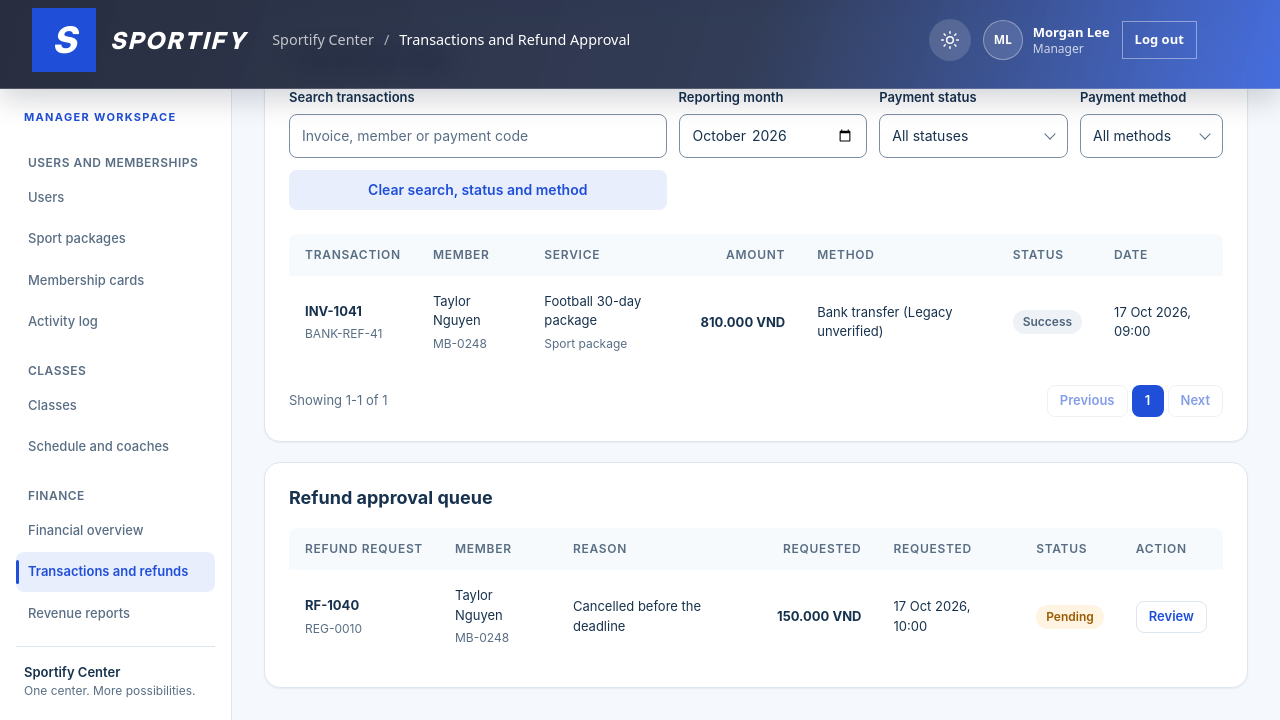
FE-13 transaction ledger and refund review › approves the requested amount with a manager note and updates the queue without a page reload
(page scrolled)
Click the button with aria-label "Review refund RF-1040": click(1171, 617) [1136,601,1207,633]
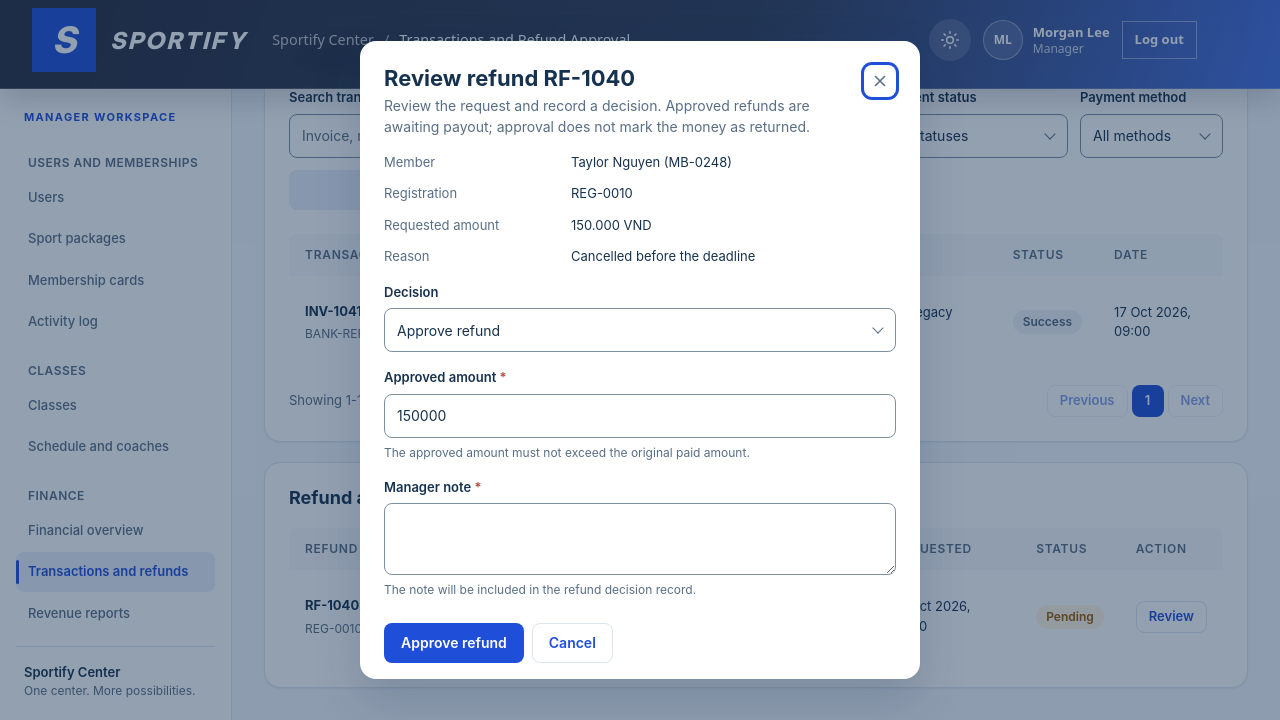
Replace the text in the number field labelled "Approved amount *" with "125000": (640, 416) [384,394,896,438]
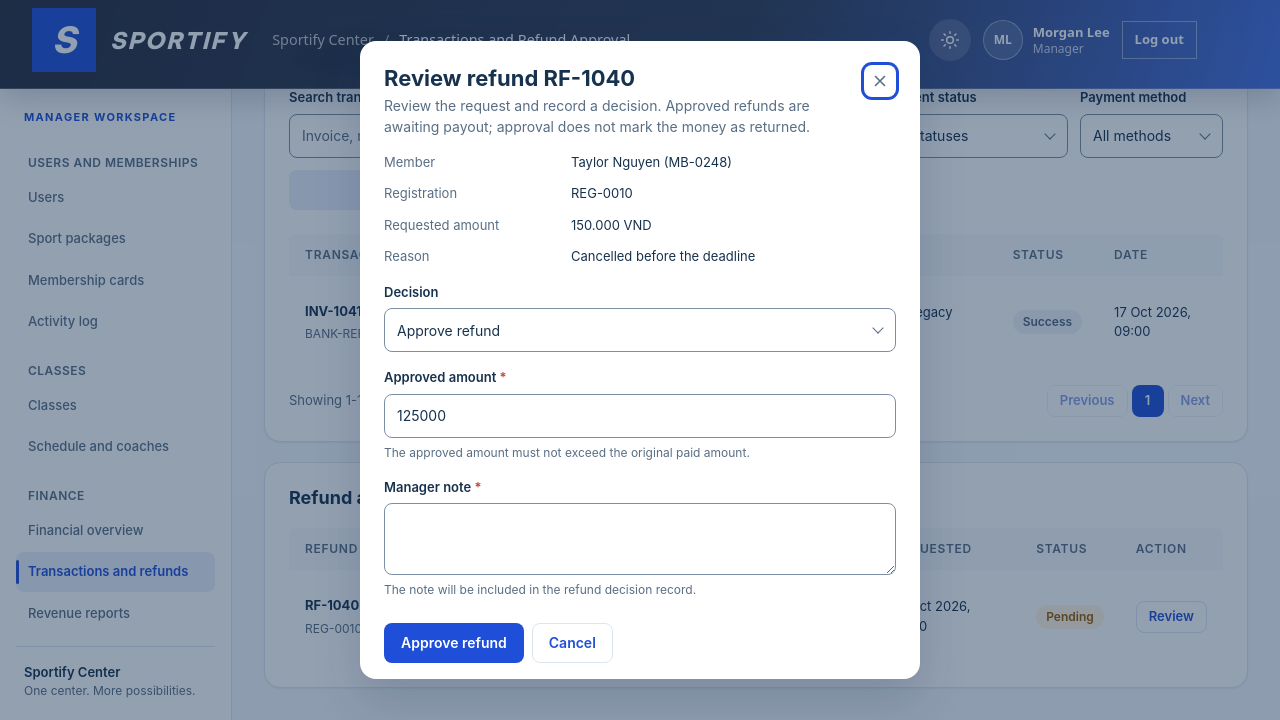
In the text box labelled "Manager note *": (640, 539) [384,503,896,575], type "Verified the cancellation timestamp."
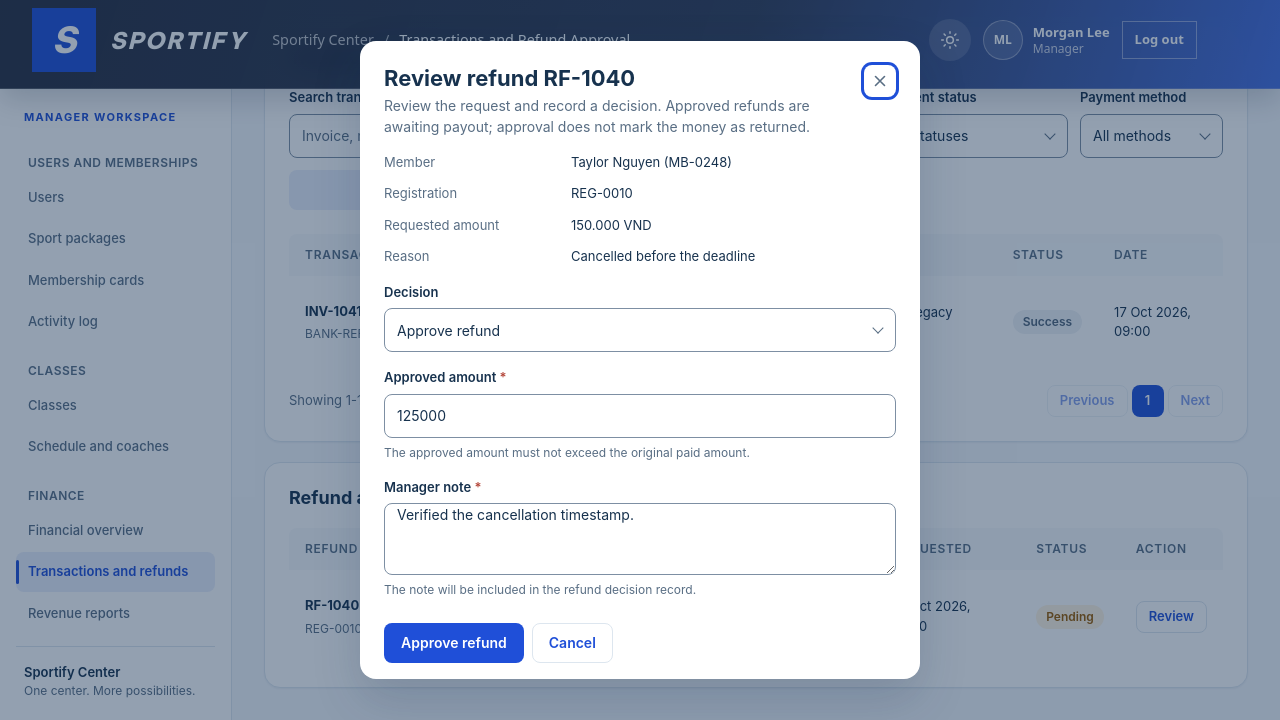
Click the button "Approve refund": click(454, 643) [384,623,524,663]
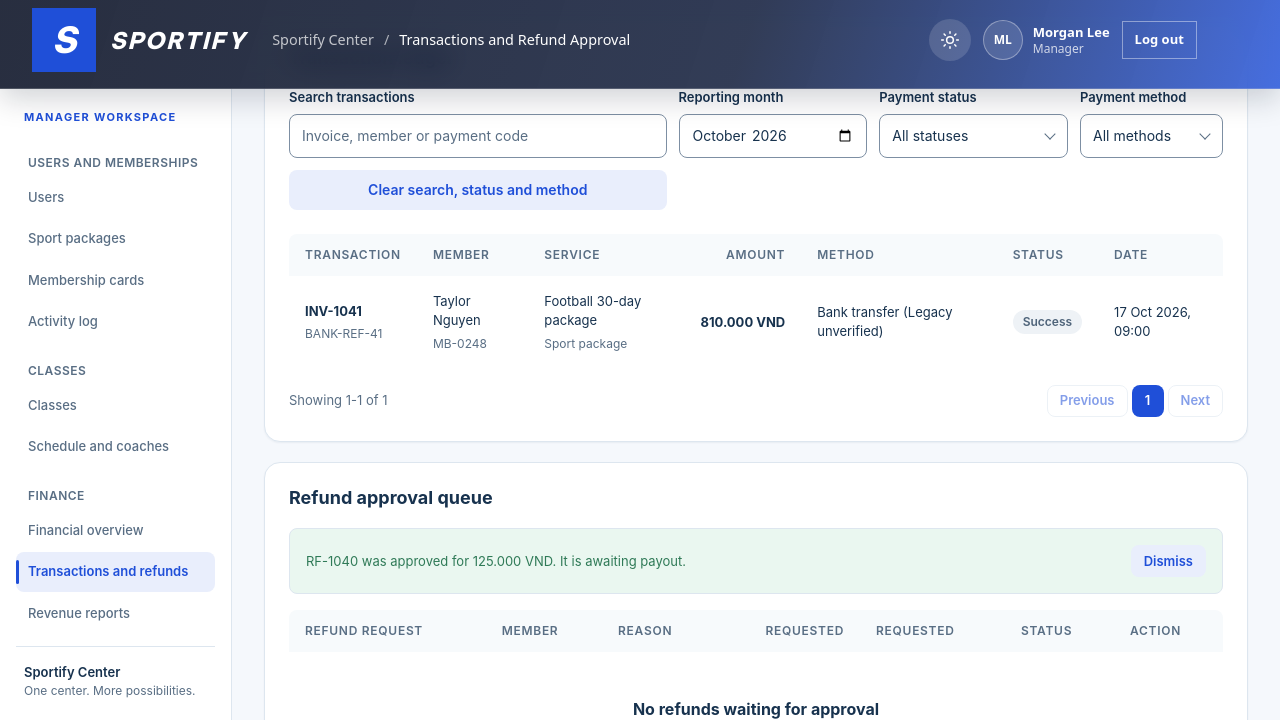
Now the text "RF-1040 was approved for 125.000 VND. It is awaiting payout." is shown, box [306,552,686,571]
Now the heading "Review refund RF-1040" is gone
